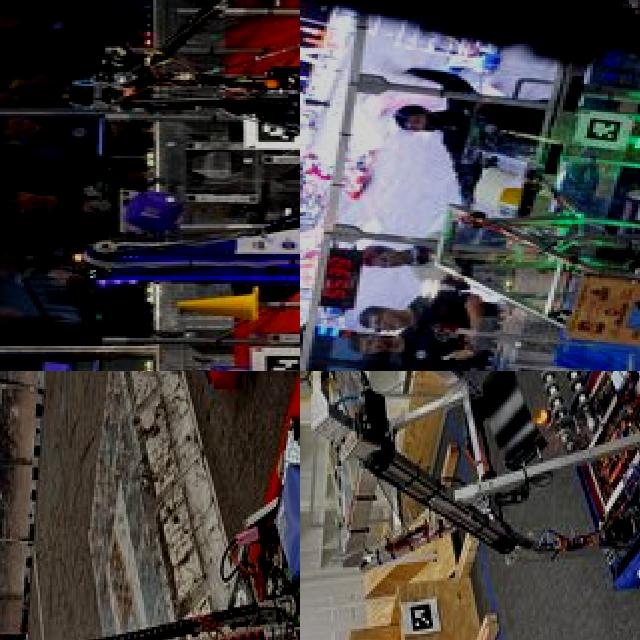FRC-Robots: (0, 371, 300, 640), (300, 371, 640, 545), (413, 199, 640, 351), (143, 0, 300, 183), (80, 190, 300, 320)
